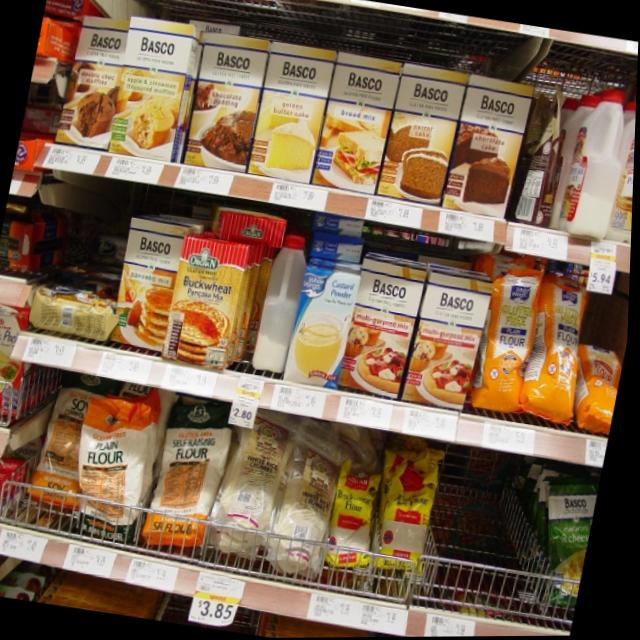q25: (161, 227, 257, 370)
